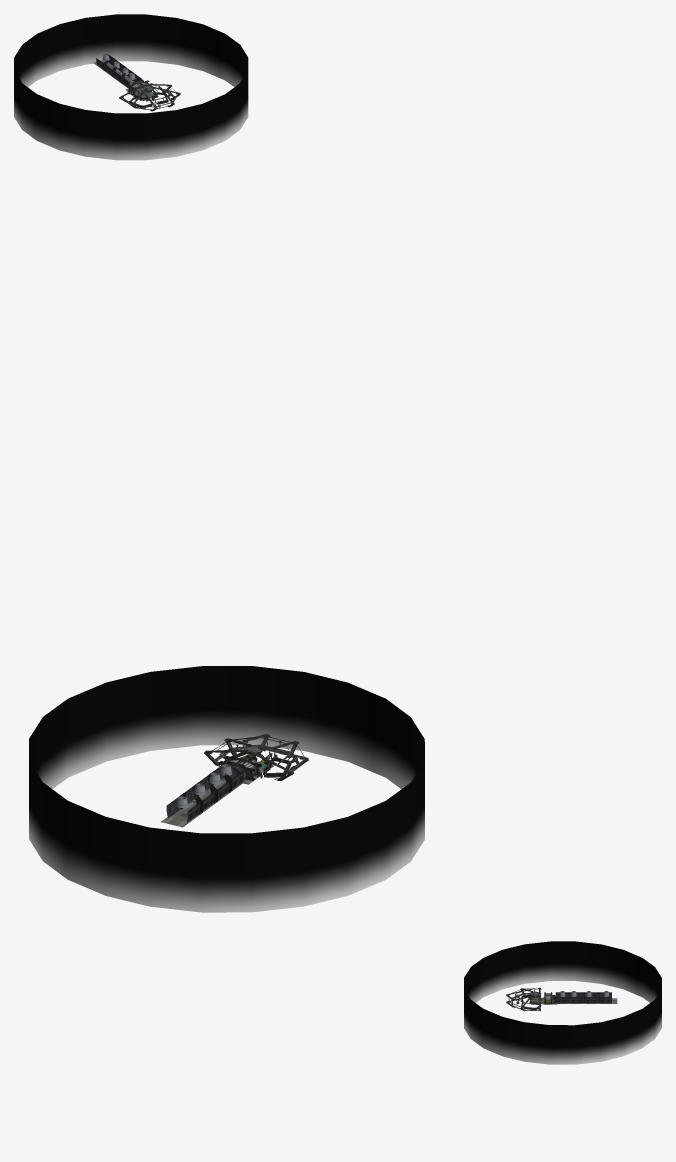
The model's file is env_tfed_dreadnaught_bridge_01_pre.glb.
3 renders of one model, top to bottom at view 1: azimuth 30°, elevation 25°; view 2: azimuth 150°, elevation 25°; view 3: azimuth 270°, elevation 25°, orthographic. The views are drawn at different scales.
Parts seen in each view (by area): view 1: skybox_cylinder_01_mesh (2); view 2: skybox_cylinder_01_mesh (2); view 3: skybox_cylinder_01_mesh (2).
Boxes of the visible parts, <box> form: skybox_cylinder_01_mesh (2): <box>14,14,248,160</box>; skybox_cylinder_01_mesh (2): <box>29,666,424,912</box>; skybox_cylinder_01_mesh (2): <box>464,941,661,1064</box>.
Bounding box in the file's own units: 210 × 52.78 × 421.
Materials: 23 (23 with a texture image).
